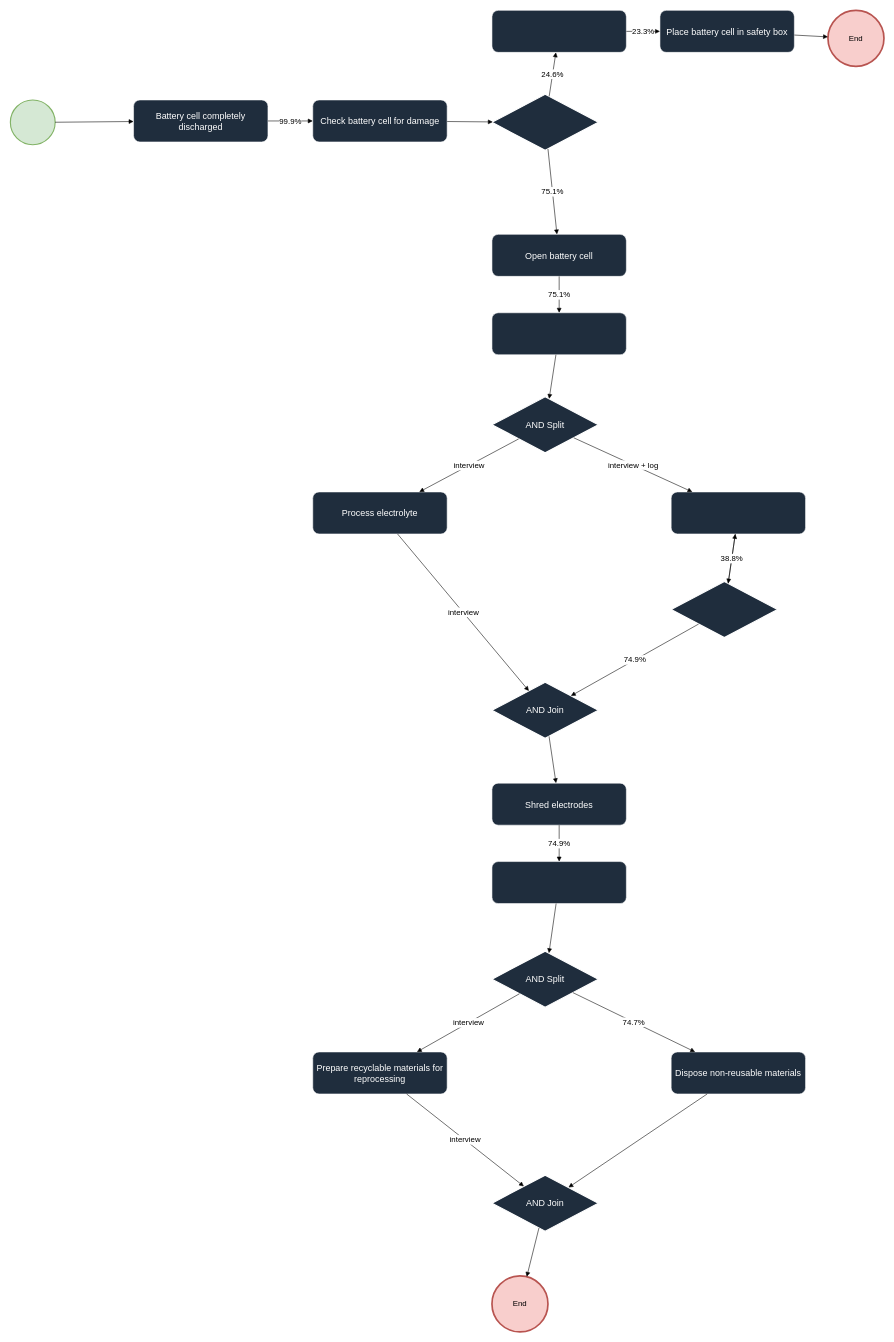
The diagram is 894 pixels wide and 1342 high, and some of its shapes have lost their labels. The centre of each missing label's shape, as x and y in pixels:
Check / manage safety box: point 558,31
Clean electrodes: point 738,512
Collect electrolyte separately: point 558,333
Melt down solid materials: point 558,882
Start: point 32,122
XOR: Battery damaged?: point 545,122
XOR: Cleaning rework?: point 724,609
